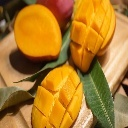mango: (13, 4, 62, 60)
